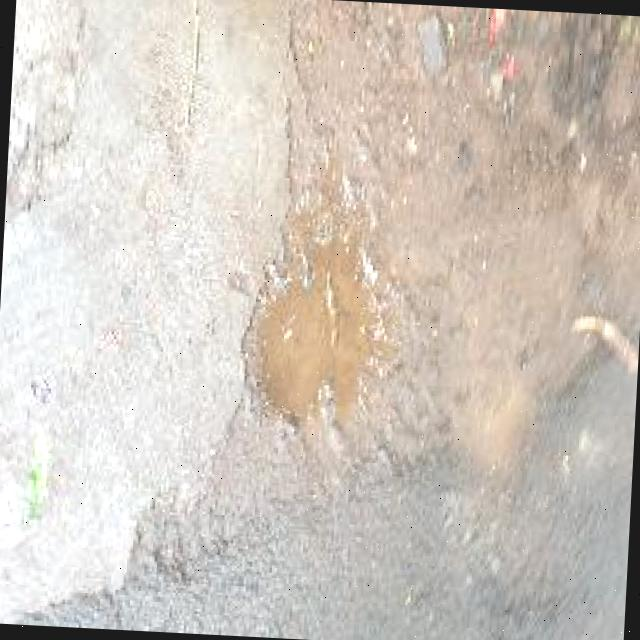stagnation: (225, 125, 402, 449)
